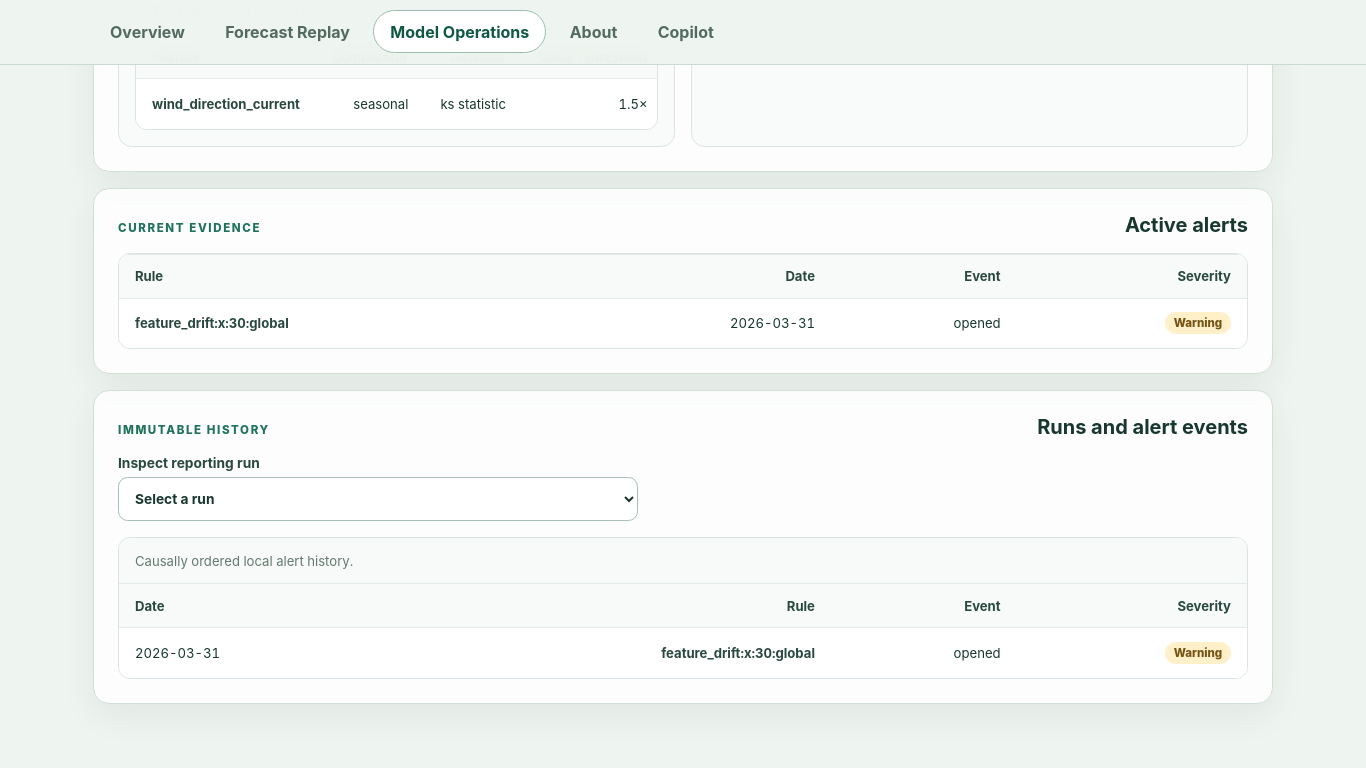
Test: App pages › supports the API error state for a selected run
(page scrolled)
Step 1. Select "2026-03-31 — succeeded" in the dropdown labelled "Inspect reporting run" → x=378, y=499, box [118,477,638,521]
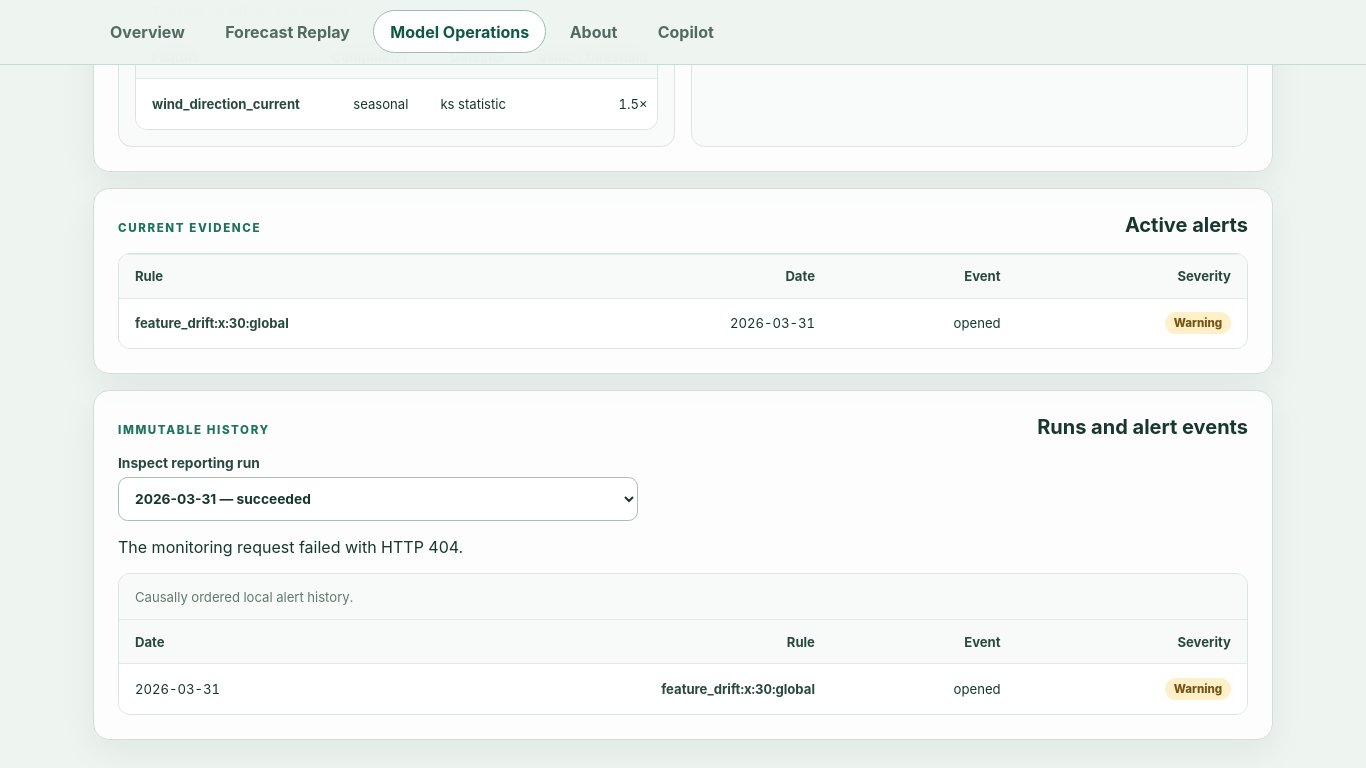
Check: the text "The monitoring request failed with HTTP 404." is shown, box [118,537,463,557]
